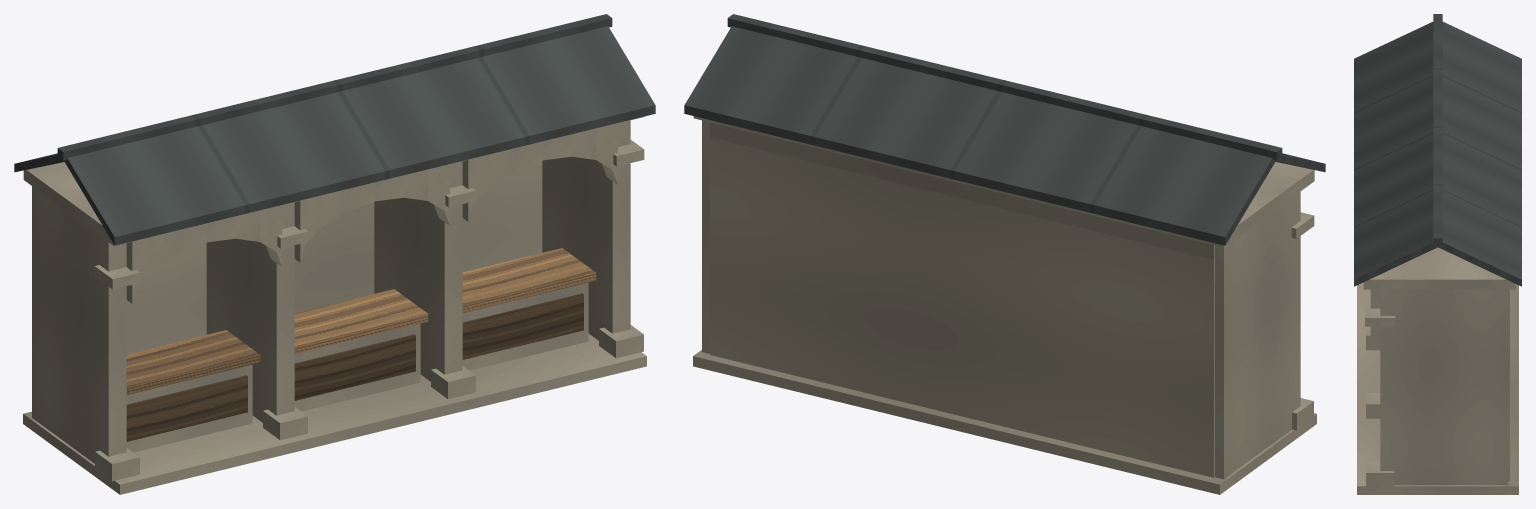
Rendered from victoria.glb.
The picture shows the model from 3 angles, left to right: view 1: azimuth 30°, elevation 25°; view 2: azimuth 150°, elevation 25°; view 3: azimuth 270°, elevation 25°; orthographic projection. The views are drawn at different scales.
Parts seen in each view (by area): view 1: victoria; view 2: victoria; view 3: victoria.
Part boxes in pixels (x1,y1,x2,y2): victoria: [14, 14, 655, 494]; victoria: [684, 14, 1325, 494]; victoria: [1354, 14, 1521, 494].
Size of the model in its own units: 4.79 by 2.6 by 1.51.
1 material, 1 textured.
